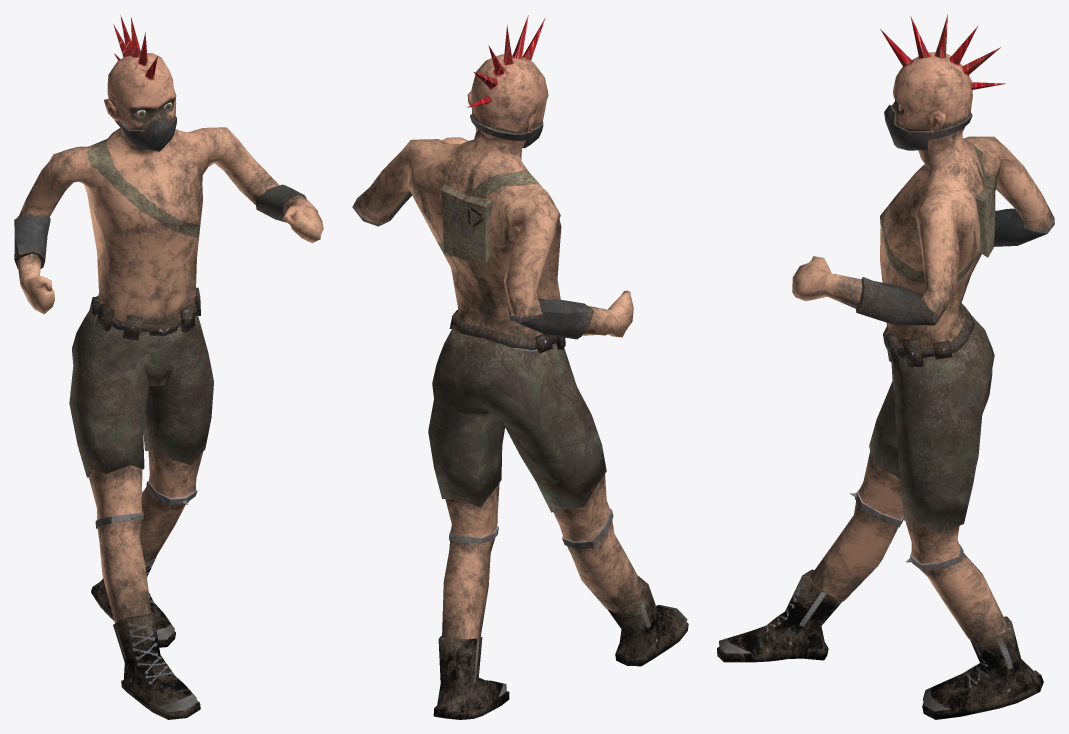
The model's file is Anim_ataque_d3_npc2.0038.obj.
The picture shows the model from 3 angles, left to right: view 1: azimuth 30°, elevation 25°; view 2: azimuth 150°, elevation 25°; view 3: azimuth 270°, elevation 25°; orthographic projection. The views are drawn at different scales.
Parts seen in each view (by area): view 1: polySurface1; view 2: polySurface1; view 3: polySurface1.
Part boxes in pixels (x1,y1,x2,y2): polySurface1: (14, 15, 323, 719); polySurface1: (352, 15, 688, 719); polySurface1: (717, 14, 1054, 719).
Bounding box in the file's own units: 4.27 × 10.06 × 4.49.
2 materials, 2 textured.
